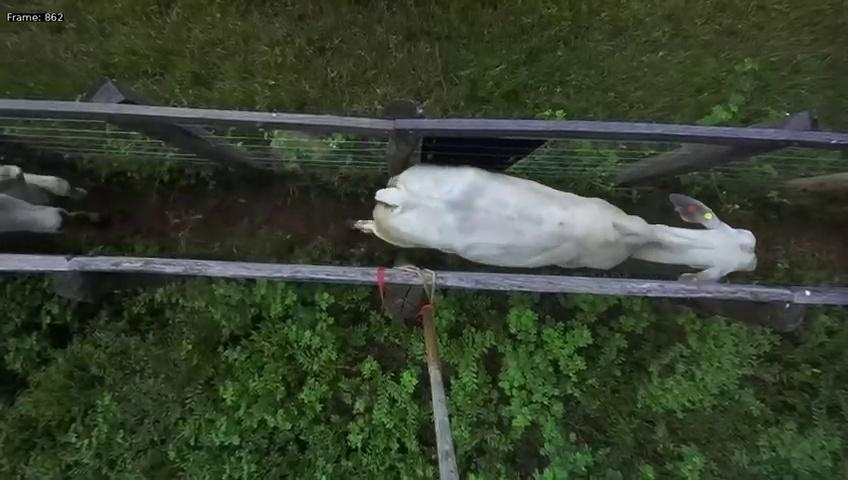cattle: (353, 130, 757, 283)
